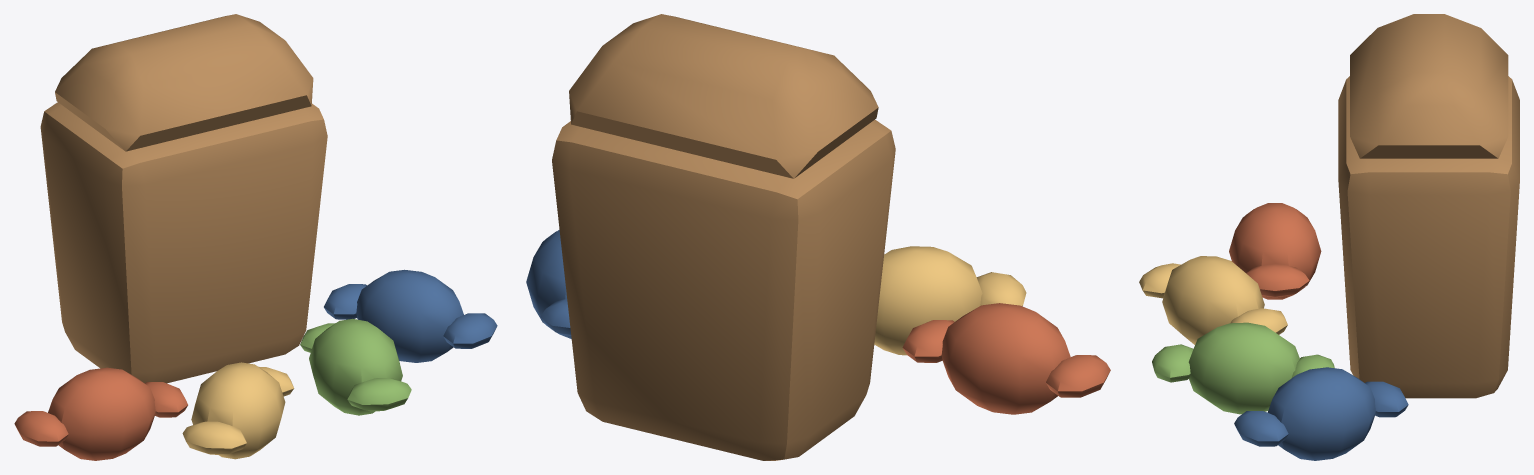
Rendered from sweets.glb.
3 views of the same model, side by side, from view 1: azimuth 30°, elevation 25°; view 2: azimuth 150°, elevation 25°; view 3: azimuth 270°, elevation 25° (orthographic). The views are drawn at different scales.
Parts seen in each view (by area): view 1: crate, food_c, sign_blue, food_b, poster_c; view 2: crate, food_c, poster_c, sign_blue; view 3: crate, sign_blue, food_b, poster_c, food_c.
Boxes of the visible parts, x1,y1,x2,y2 form: crate: (40,14,327,383); food_c: (14,367,187,460); sign_blue: (324,269,497,362); food_b: (300,318,411,415); poster_c: (182,362,294,459); crate: (552,14,895,460); food_c: (902,303,1110,414); poster_c: (874,246,1026,355); sign_blue: (526,229,571,338); crate: (1338,14,1519,398); sign_blue: (1234,367,1408,460); food_b: (1152,322,1334,414); poster_c: (1139,256,1287,344); food_c: (1229,203,1321,299).
Size of the model in its own units: 0.3529 by 0.235 by 0.2472.
